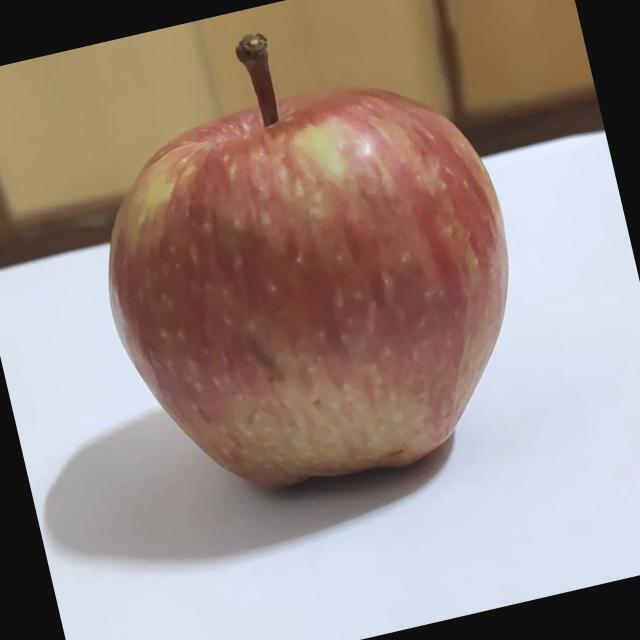apple: (54, 0, 559, 537)
